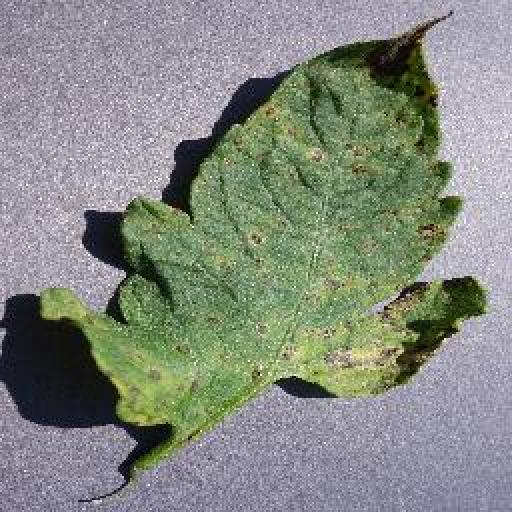Septoria: (45, 16, 488, 433)
